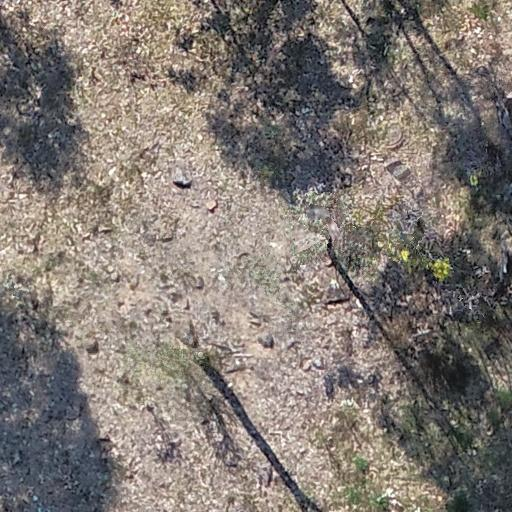stone: (144, 219, 177, 244), (322, 281, 351, 306), (175, 318, 198, 346), (170, 167, 191, 186), (85, 338, 101, 356), (186, 272, 204, 288), (257, 334, 275, 348), (224, 451, 240, 466), (95, 427, 110, 442), (205, 199, 219, 214), (312, 355, 326, 370), (301, 358, 314, 371), (97, 225, 113, 235), (248, 310, 264, 319), (130, 276, 140, 288), (110, 271, 120, 282)
